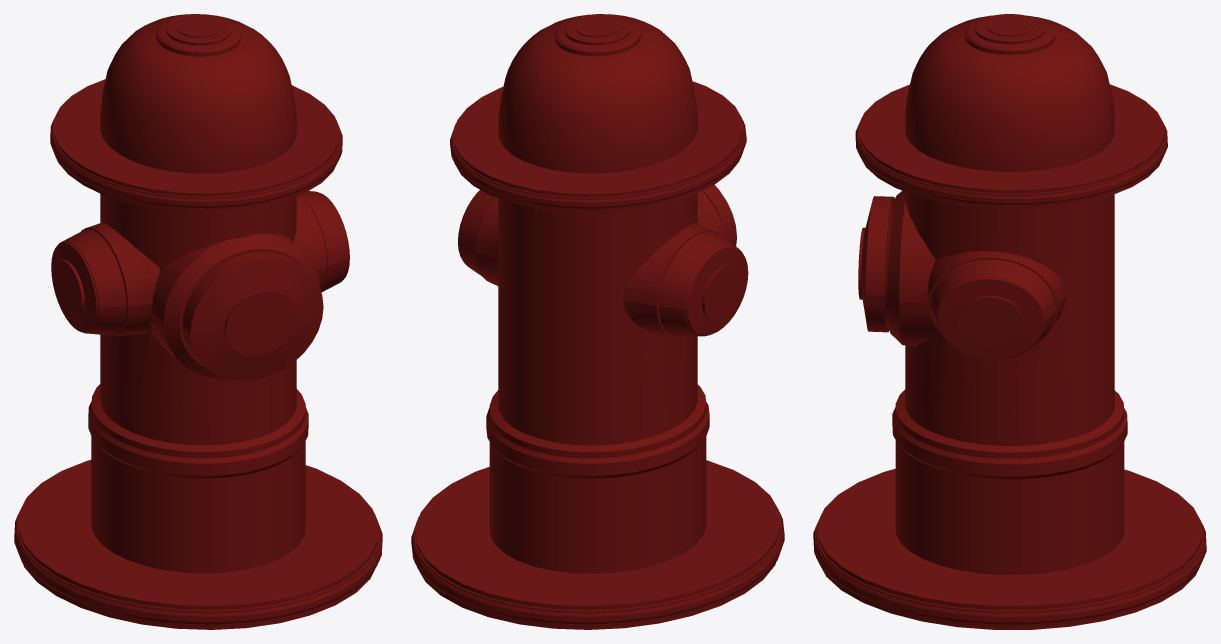
Rendered from NY street detail.fbx.
The picture shows the model from 3 angles, left to right: view 1: azimuth 30°, elevation 25°; view 2: azimuth 150°, elevation 25°; view 3: azimuth 270°, elevation 25°; orthographic projection.
Parts seen in each view (by area): view 1: Simple Fire Hydrant; view 2: Simple Fire Hydrant; view 3: Simple Fire Hydrant.
Part boxes in pixels (x1,y1,x2,y2): Simple Fire Hydrant: (14,14,382,629); Simple Fire Hydrant: (411,14,784,629); Simple Fire Hydrant: (813,14,1206,629).
Bounding box in the file's own units: 292 × 512 × 313.
